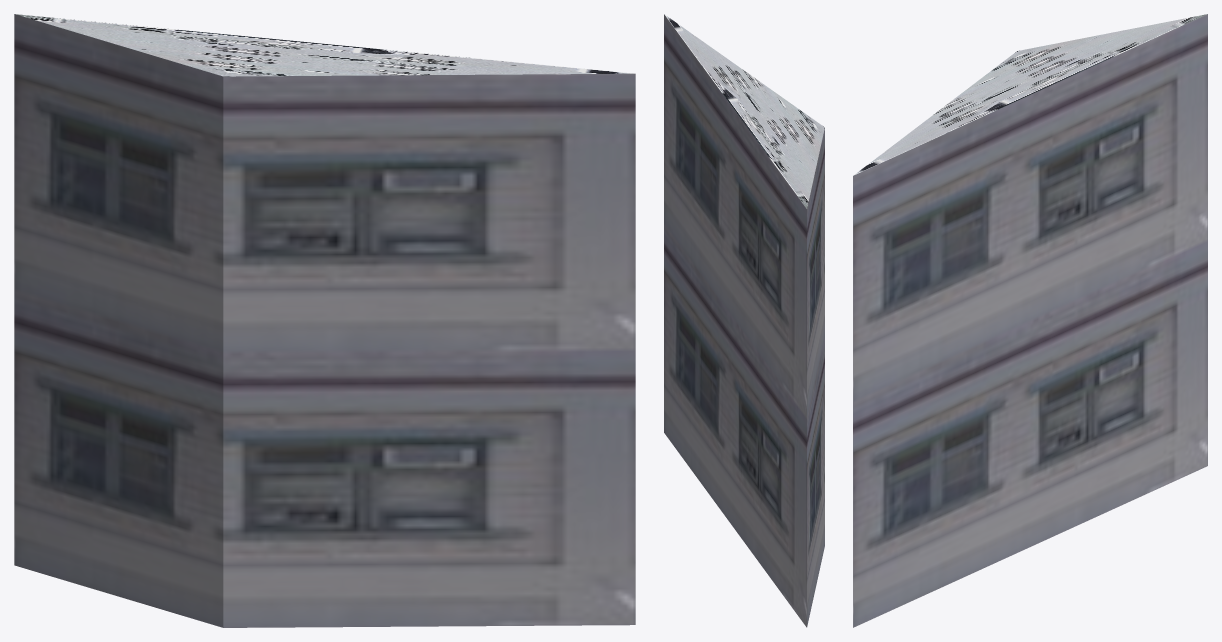
Rendered from ResTex__4175.fbx.
3 views of the same model, side by side, from view 1: azimuth 30°, elevation 25°; view 2: azimuth 150°, elevation 25°; view 3: azimuth 270°, elevation 25° (orthographic). The views are drawn at different scales.
Parts seen in each view (by area): view 1: CityEngineMaterial_1_m, CityEngineMaterial_4_m; view 2: CityEngineMaterial_1_m, CityEngineMaterial_4_m; view 3: CityEngineMaterial_1_m, CityEngineMaterial_4_m.
Part boxes in pixels (box(x1,y1,x2,y2)): CityEngineMaterial_1_m: box(14, 14, 635, 627); CityEngineMaterial_4_m: box(15, 14, 632, 76); CityEngineMaterial_1_m: box(664, 14, 824, 627); CityEngineMaterial_4_m: box(664, 14, 824, 208); CityEngineMaterial_1_m: box(853, 14, 1207, 627); CityEngineMaterial_4_m: box(853, 14, 1207, 175).
Bounding box in the file's own units: 4.61 × 6 × 4.27.
Materials: 2 (2 with a texture image).
